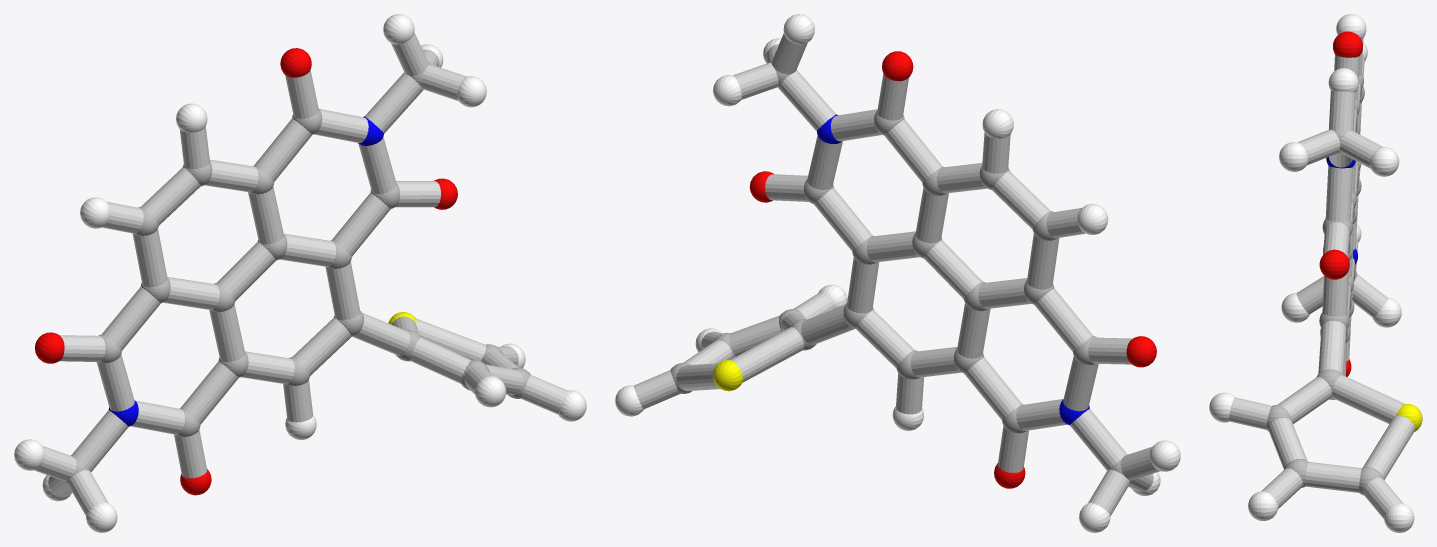
Rendered from Dimethyl_Naphthalene_Dicarboximide_Phi_5_Theta_90_Thiophene.glb.
The picture shows the model from 3 angles, left to right: view 1: azimuth 30°, elevation 25°; view 2: azimuth 150°, elevation 25°; view 3: azimuth 270°, elevation 25°; orthographic projection. The views are drawn at different scales.
Parts seen in each view (by area): view 1: grp14119, grp7241, grp1, grp12309, grp11585; view 2: grp14119, grp7241, grp1, grp12309, grp13757, grp11585; view 3: grp14119, grp7241, grp1, grp12309, grp13757.
Part boxes in pixels (left/top/right/bottom): grp14119: left=34, top=32, right=567, bottom=515; grp7241: left=14, top=14, right=586, bottom=532; grp1: left=63, top=61, right=530, bottom=484; grp12309: left=35, top=48, right=457, bottom=495; grp11585: left=108, top=116, right=383, bottom=426; grp14119: left=633, top=33, right=1160, bottom=516; grp7241: left=615, top=14, right=1180, bottom=532; grp1: left=670, top=59, right=1134, bottom=483; grp12309: left=749, top=51, right=1156, bottom=488; grp13757: left=713, top=360, right=742, bottom=391; grp11585: left=817, top=114, right=1089, bottom=425; grp14119: left=1229, top=38, right=1415, bottom=519; grp7241: left=1209, top=14, right=1414, bottom=532; grp1: left=1266, top=74, right=1383, bottom=495; grp12309: left=1319, top=31, right=1362, bottom=376; grp13757: left=1396, top=404, right=1422, bottom=431.
Size of the model in its own units: 11.76 by 8.93 by 4.23.
